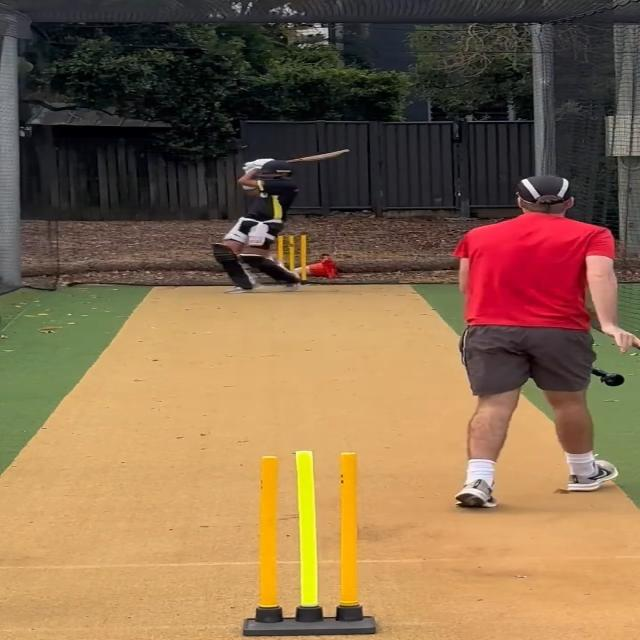stump: (241, 448, 379, 636)
